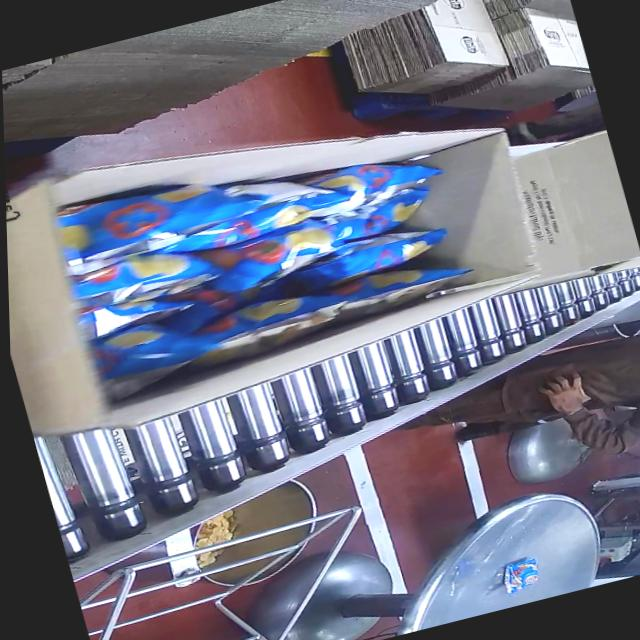PAPRIKA: (38, 115, 477, 392)
